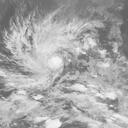cyclone: (46, 55, 63, 72)
